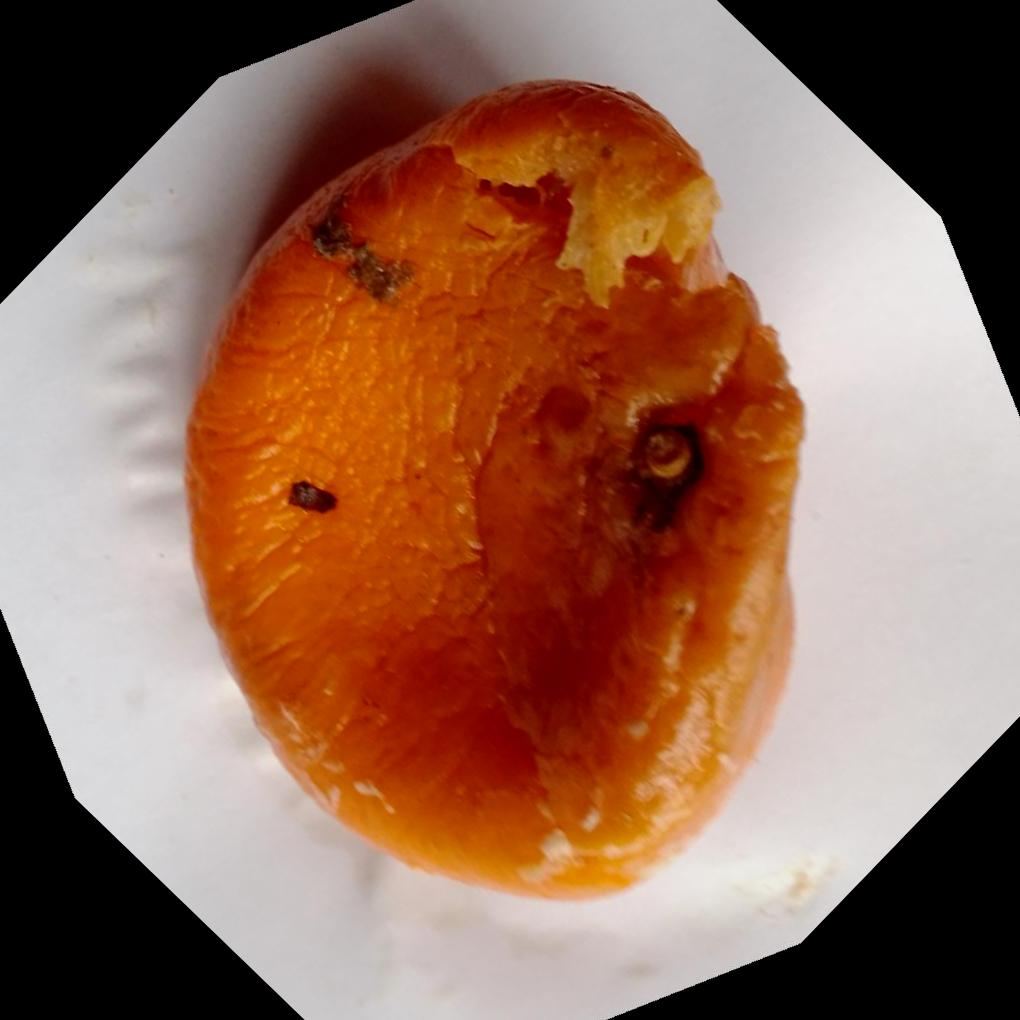FreshOrange: (179, 77, 806, 906)
